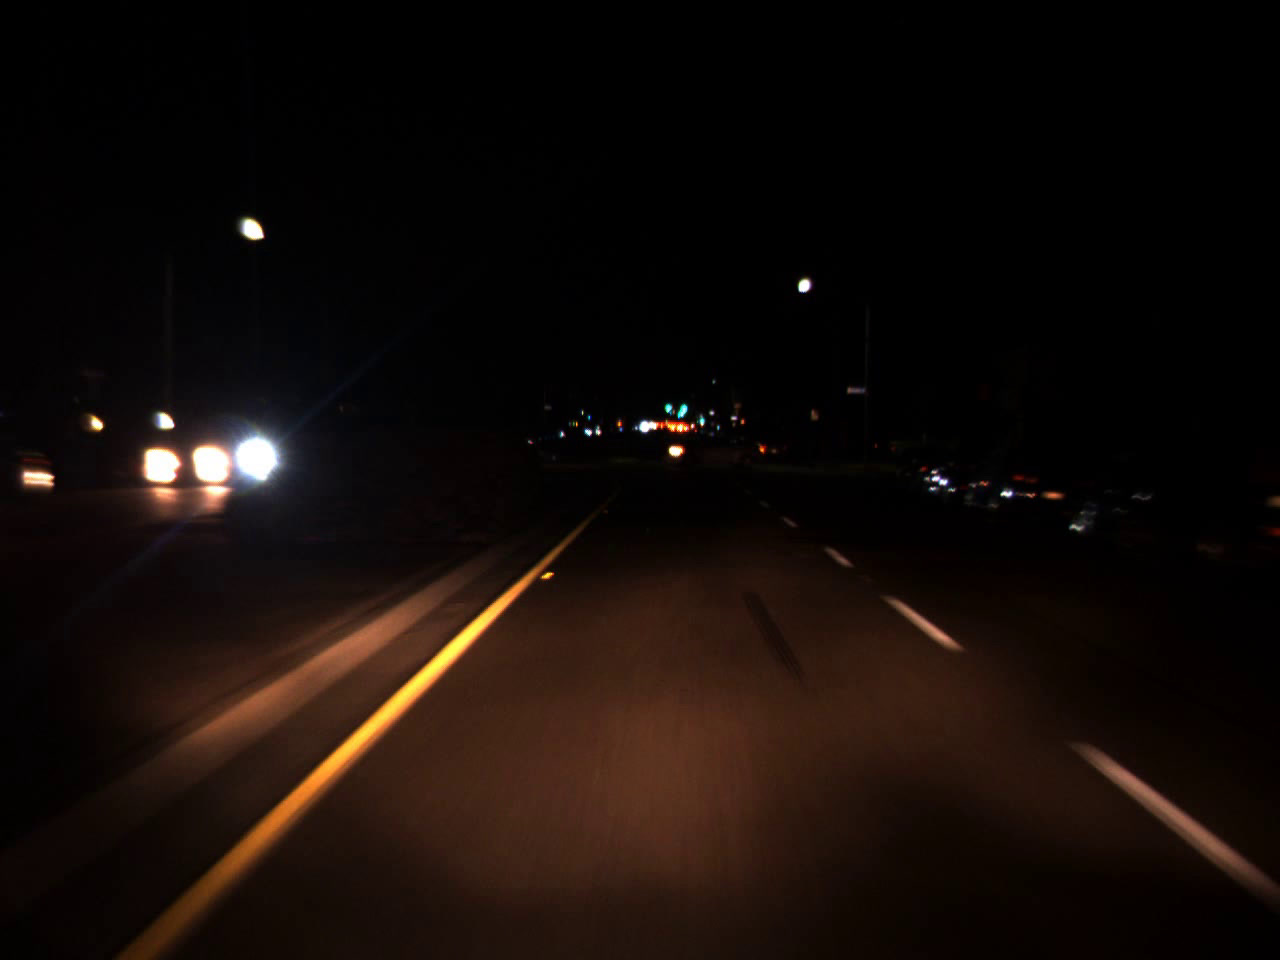go: (674, 391, 688, 418), (663, 397, 672, 412), (698, 413, 705, 425)
